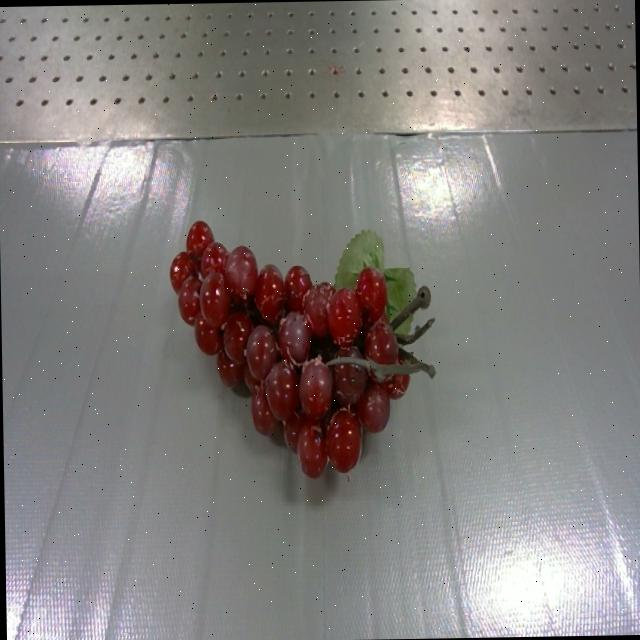grape: (168, 222, 433, 477)
